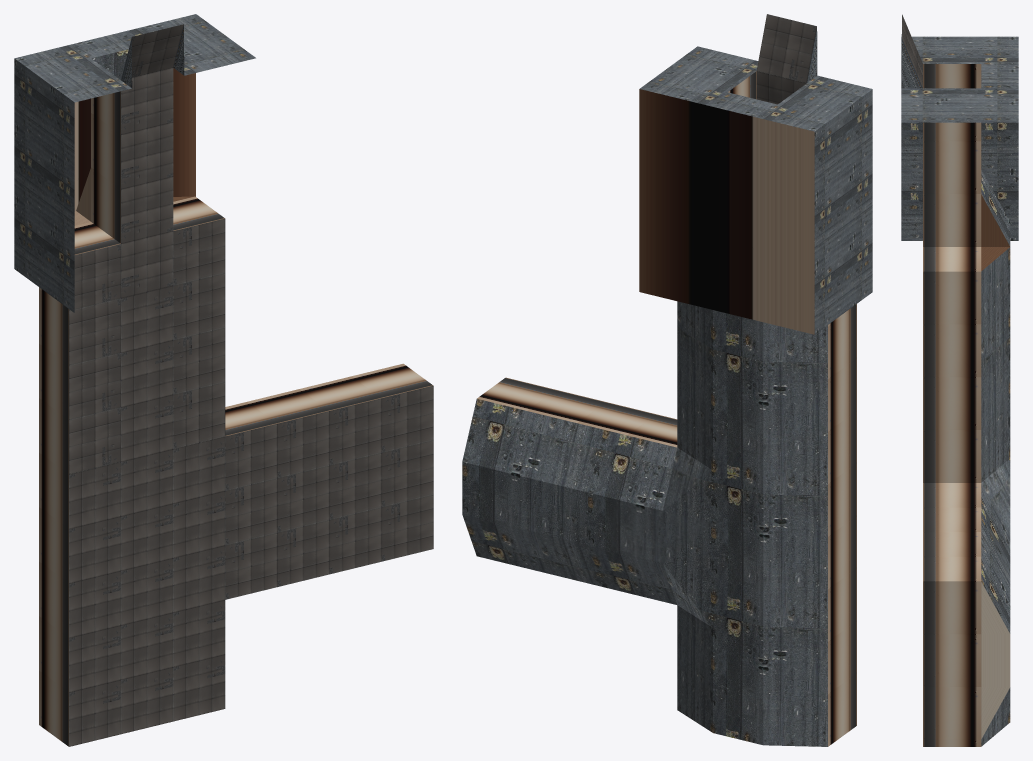
Rendered from bunker.dae.
3 renders of one model, left to right at view 1: azimuth 30°, elevation 25°; view 2: azimuth 150°, elevation 25°; view 3: azimuth 270°, elevation 25°, orthographic. The views are drawn at different scales.
Parts seen in each view (by area): view 1: bunker; view 2: bunker; view 3: bunker.
Boxes of the visible parts, x1,y1,x2,y2 form: bunker: [14, 14, 433, 746]; bunker: [462, 14, 872, 746]; bunker: [901, 14, 1018, 746].
Bounding box in the file's own units: 19.89 × 5.62 × 36.24.
